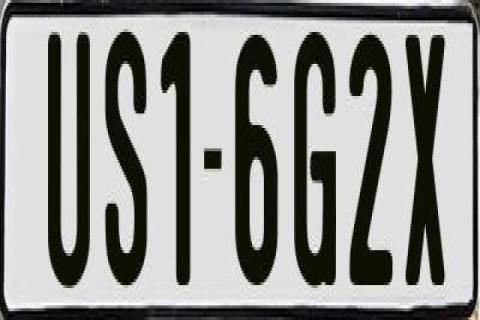0: (348, 32, 394, 291), (236, 29, 280, 297), (162, 24, 194, 294)
G: (294, 26, 340, 300)
S: (104, 29, 148, 294)
U: (47, 26, 95, 300)
X: (402, 26, 448, 291)
